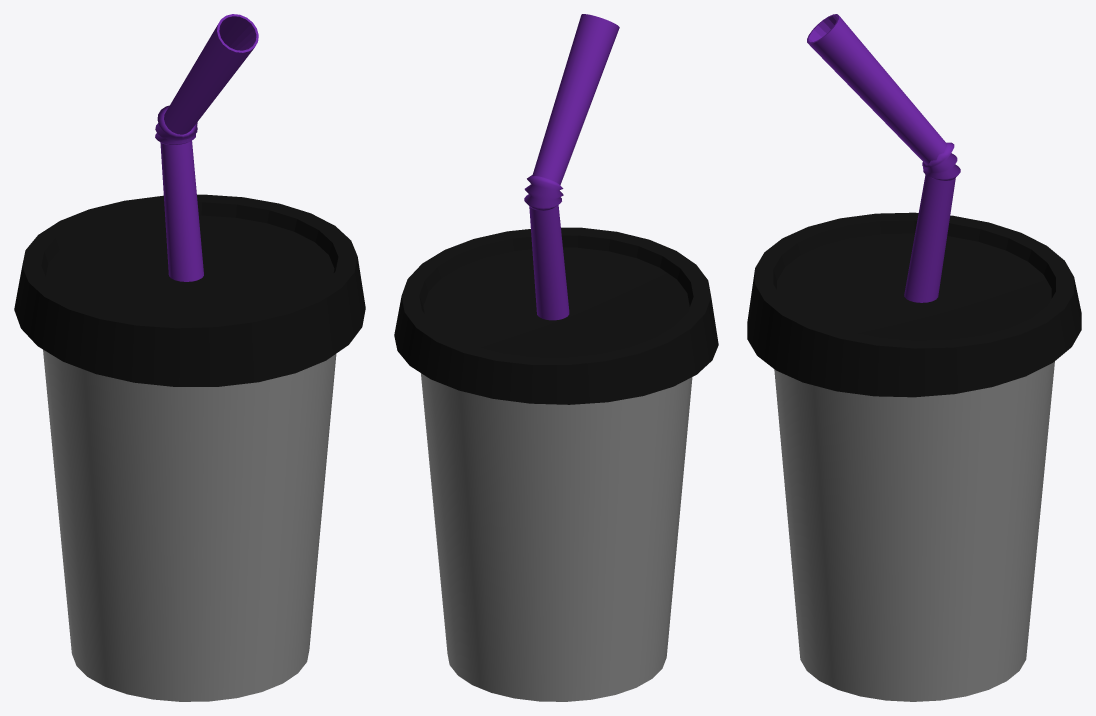
The model's file is Soda.FBX.
3 renders of one model, left to right at view 1: azimuth 30°, elevation 25°; view 2: azimuth 150°, elevation 25°; view 3: azimuth 270°, elevation 25°, orthographic. The views are drawn at different scales.
Parts seen in each view (by area): view 1: Cylinder013; view 2: Cylinder013; view 3: Cylinder013.
Boxes of the visible parts, x1,y1,x2,y2 form: Cylinder013: (14, 14, 365, 701); Cylinder013: (394, 14, 718, 701); Cylinder013: (747, 14, 1081, 701).
Size of the model in its own units: 467 by 973 by 463.
